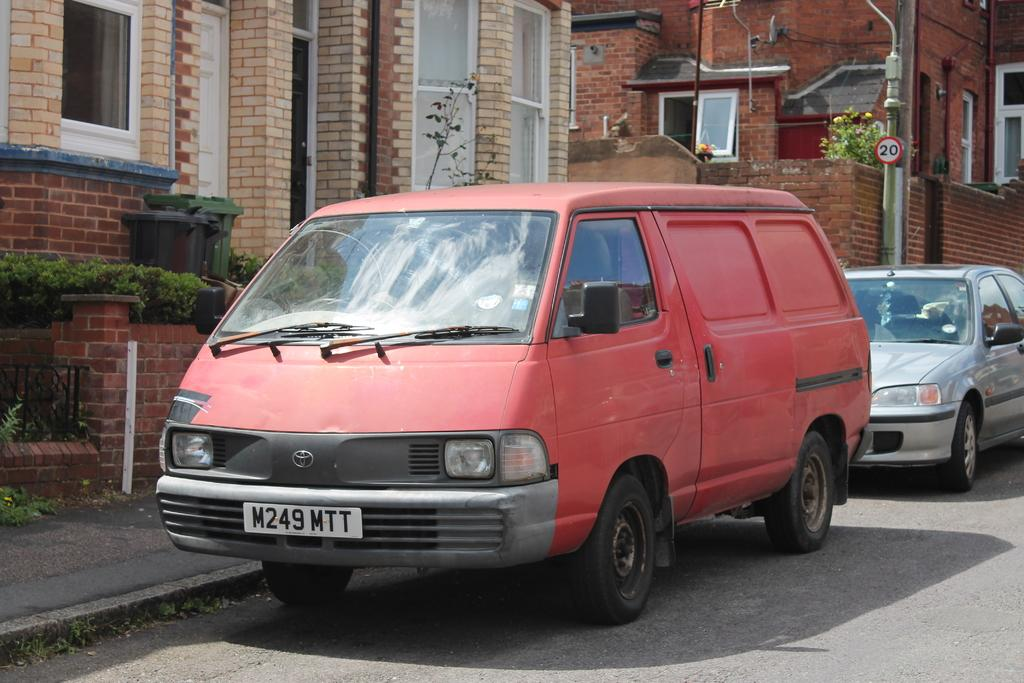vehicle: (157, 181, 873, 624), (841, 264, 1024, 491)
